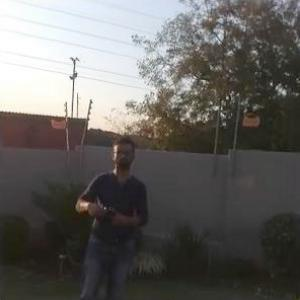follow: (72, 129, 158, 299)
